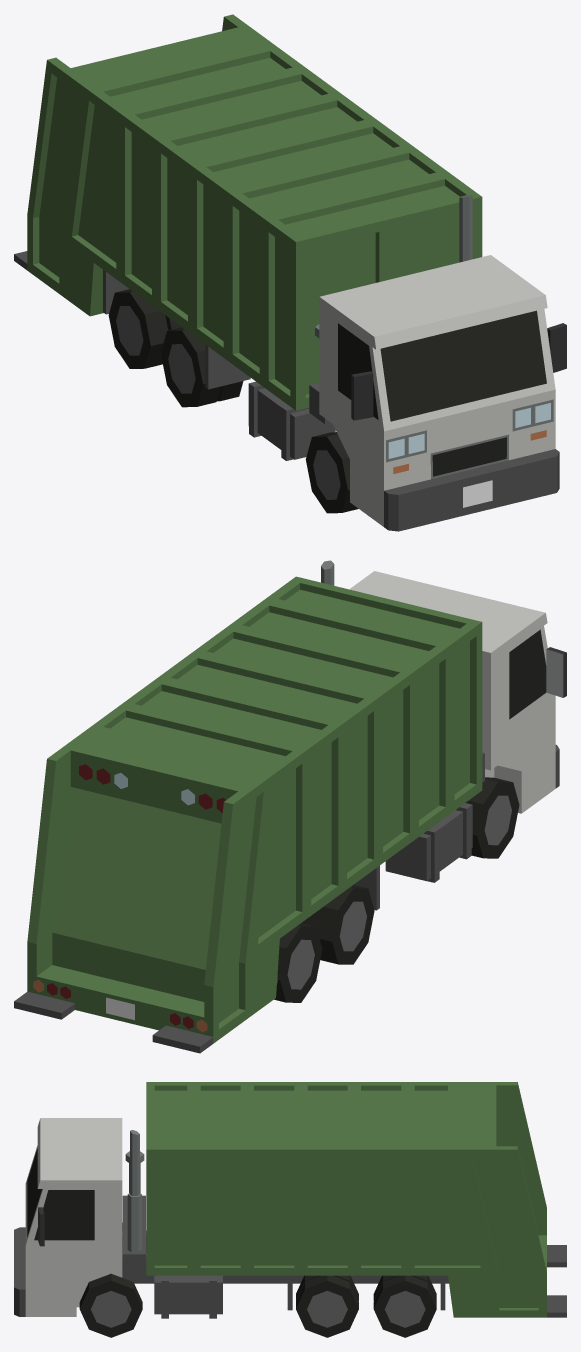
Rendered from Veh_Garbage_Truck.glb.
3 renders of one model, top to bottom at view 1: azimuth 30°, elevation 25°; view 2: azimuth 150°, elevation 25°; view 3: azimuth 270°, elevation 25°, orthographic. The views are drawn at different scales.
Visible parts, largest first — view 1: Garbage_Truck, Wheel_RR2, Wheel_RR1, Wheel_FR; view 2: Garbage_Truck, Wheel_RR1, Wheel_FR, Wheel_RR2; view 3: Garbage_Truck, Wheel_RL2, Wheel_RL1, Wheel_FL.
Part boxes in pixels (bbox=[...]): Garbage_Truck: bbox=[14, 14, 566, 531]; Wheel_RR2: bbox=[108, 289, 181, 368]; Wheel_RR1: bbox=[161, 327, 243, 407]; Wheel_FR: bbox=[305, 432, 358, 513]; Garbage_Truck: bbox=[14, 560, 566, 1053]; Wheel_RR1: bbox=[302, 885, 374, 964]; Wheel_FR: bbox=[465, 777, 519, 858]; Wheel_RR2: bbox=[274, 923, 322, 1002]; Garbage_Truck: bbox=[14, 1082, 566, 1318]; Wheel_RL2: bbox=[373, 1275, 436, 1337]; Wheel_RL1: bbox=[296, 1275, 358, 1337]; Wheel_FL: bbox=[79, 1273, 142, 1337].
Bounding box in the file's own units: 1.59 × 1.92 × 4.79.
1 material, 1 textured.
